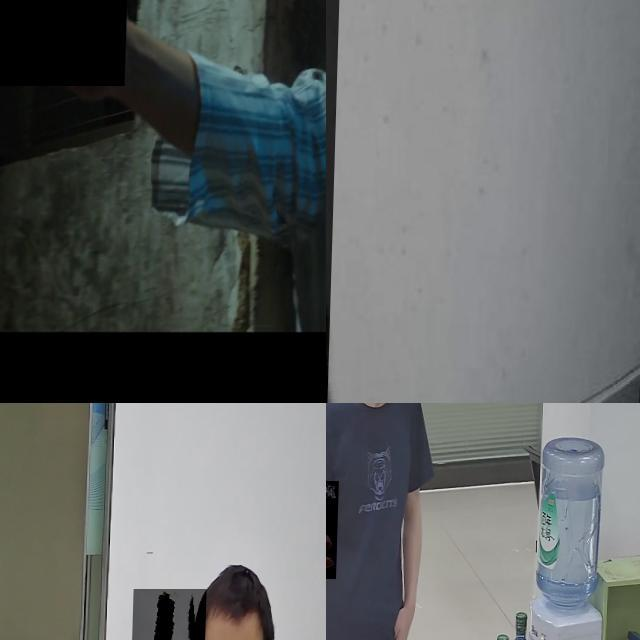-: (326, 0, 394, 403)
gun-knife-thesis - v11 Yolov5 augmented: (0, 0, 131, 104), (131, 589, 208, 640), (326, 480, 352, 579)
